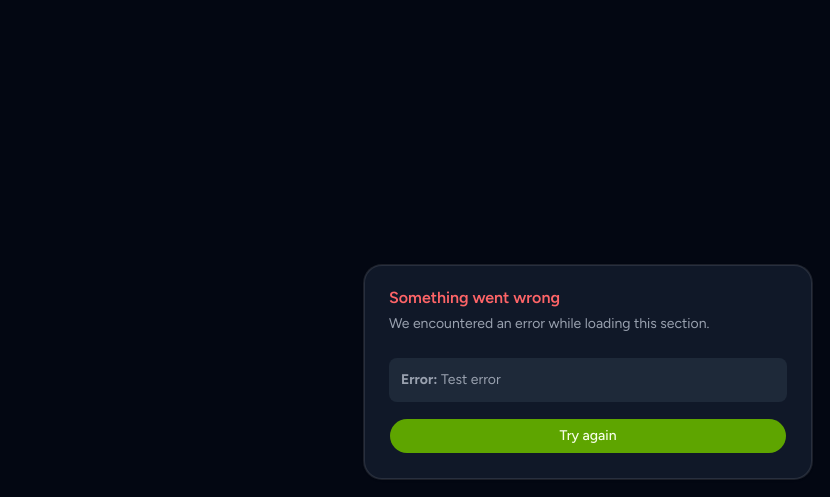
Test case: ErrorBoundary › shows "Try again" button that resets boundary
expect the text "Something went wrong" is shown: met, box x1=389 y1=288 x2=560 y2=307
What coordinates should you click on to do the following:
click the button "Try again"
I would click on:
 (588, 436)
Its box is x1=389 y1=418 x2=787 y2=454.
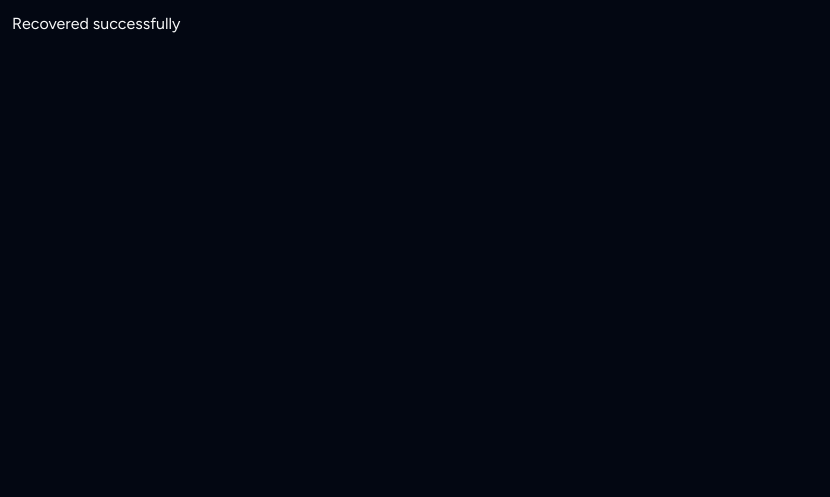
expect the text "Recovered successfully" is shown: met, box x1=12 y1=14 x2=180 y2=33
